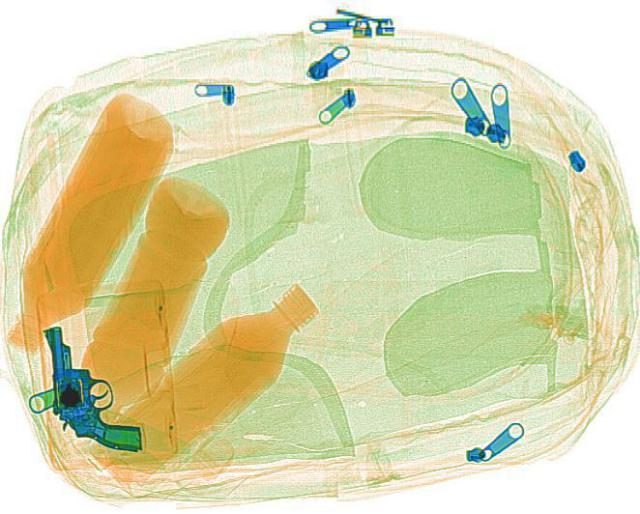Gun: (44, 314, 140, 453)
